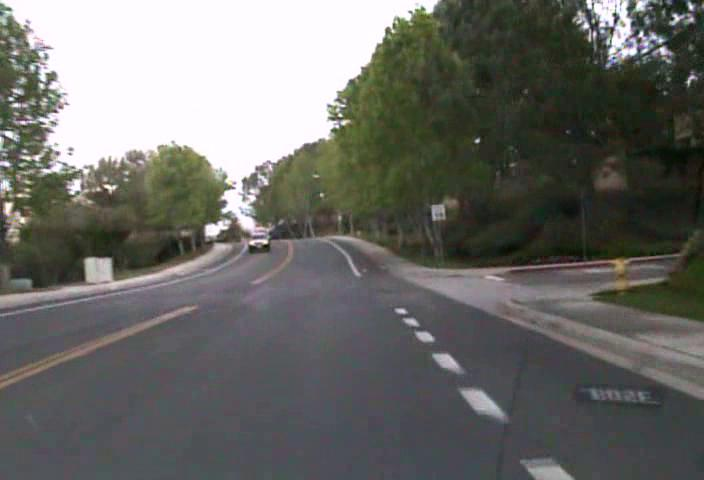speedLimitUrdbl: (430, 202, 447, 221)
